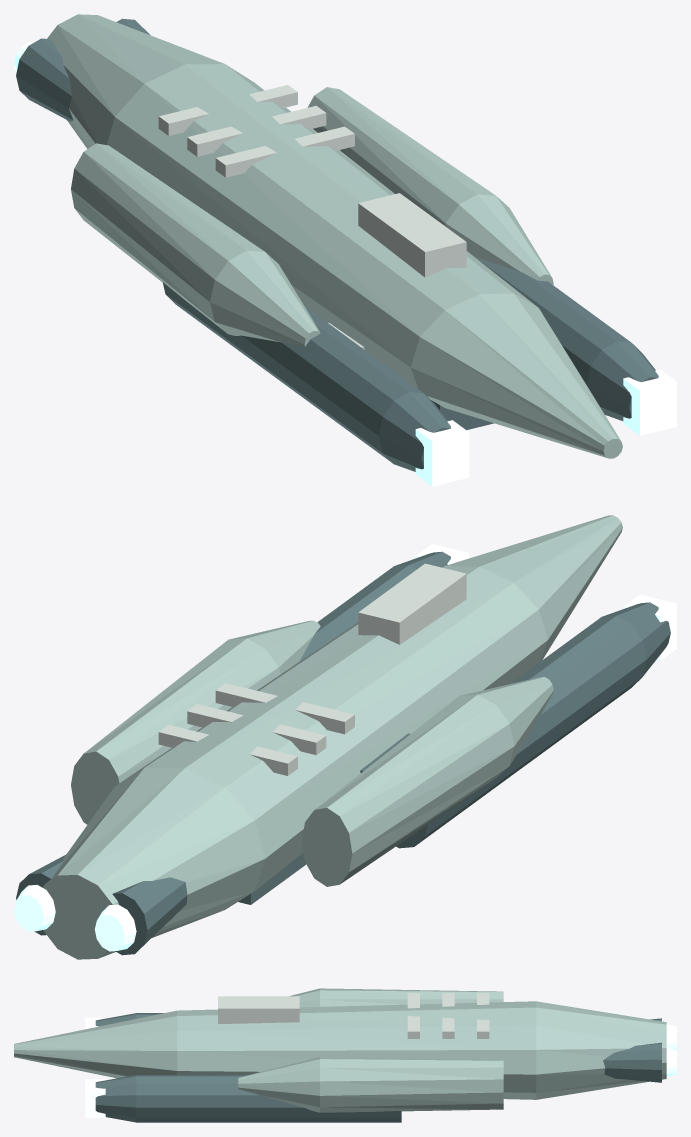
The picture shows the model from 3 angles, top to bottom: view 1: azimuth 30°, elevation 25°; view 2: azimuth 150°, elevation 25°; view 3: azimuth 270°, elevation 25°; orthographic projection. The views are drawn at different scales.
Bounding box in the file's own units: 2.16 × 1.06 × 6.69.
